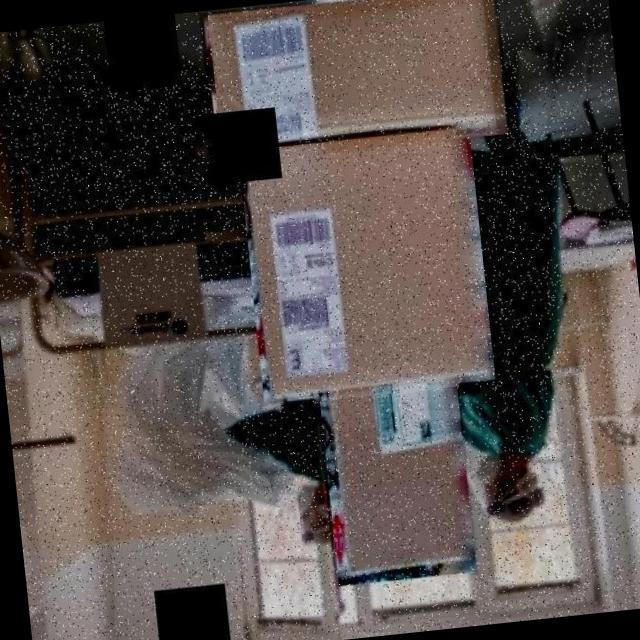box: (230, 114, 497, 408), (198, 0, 511, 165), (315, 373, 478, 590)
